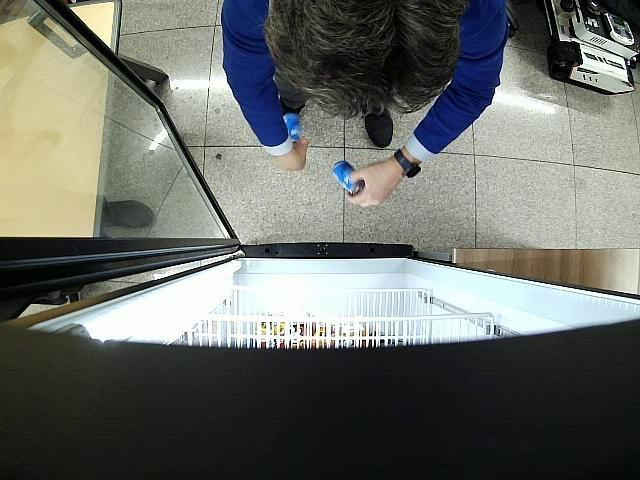15_letsbe: (332, 160, 366, 197), (282, 114, 301, 144)
